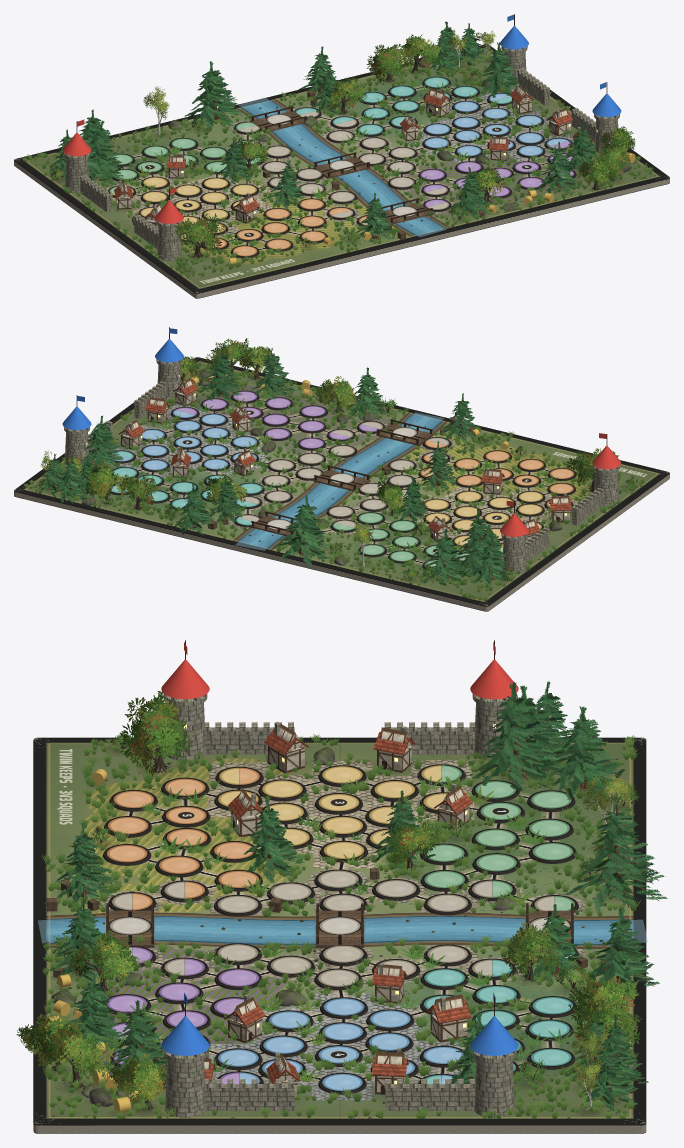
Rendered from keeps.glb.
3 views of the same model, one above another, from view 1: azimuth 30°, elevation 25°; view 2: azimuth 150°, elevation 25°; view 3: azimuth 270°, elevation 25° (orthographic). The views are drawn at different scales.
Visible parts, largest first — view 1: scenery (×25), board (×2); view 2: scenery (×24), board (×2); view 3: scenery (×35), board (×2).
Boxes of the visible parts, x1,y1,x2,y2 form: scenery (×25): (21, 21, 653, 277); board (×2): (14, 44, 669, 298); scenery (×24): (23, 338, 644, 601); board (×2): (14, 357, 669, 611); scenery (×35): (16, 659, 667, 1119); board (×2): (33, 737, 646, 1133).
Size of the model in its own units: 15.12 by 2.22 by 10.83.
Materials: 44 (33 with a texture image).
